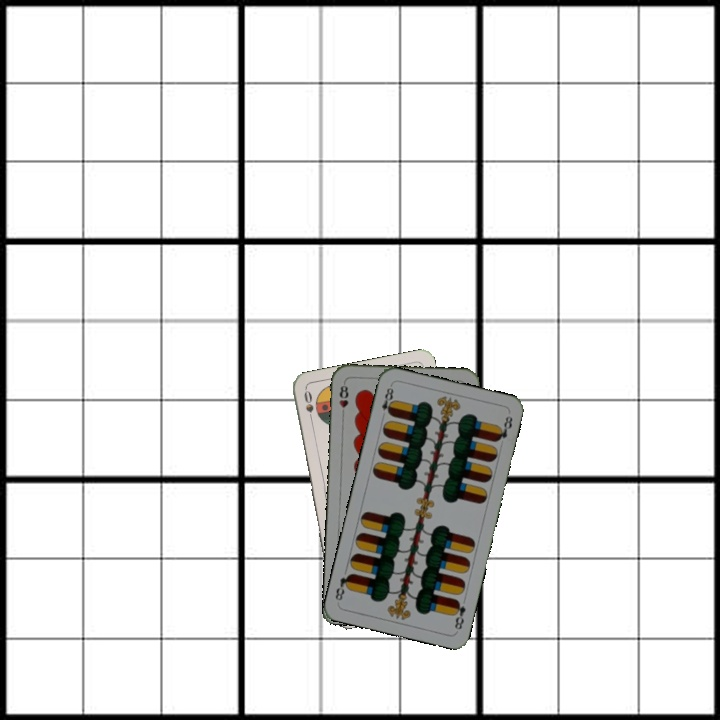E8: (377, 381, 397, 421), (449, 593, 469, 632)
H8: (335, 379, 351, 419)
SO: (300, 386, 316, 427)
